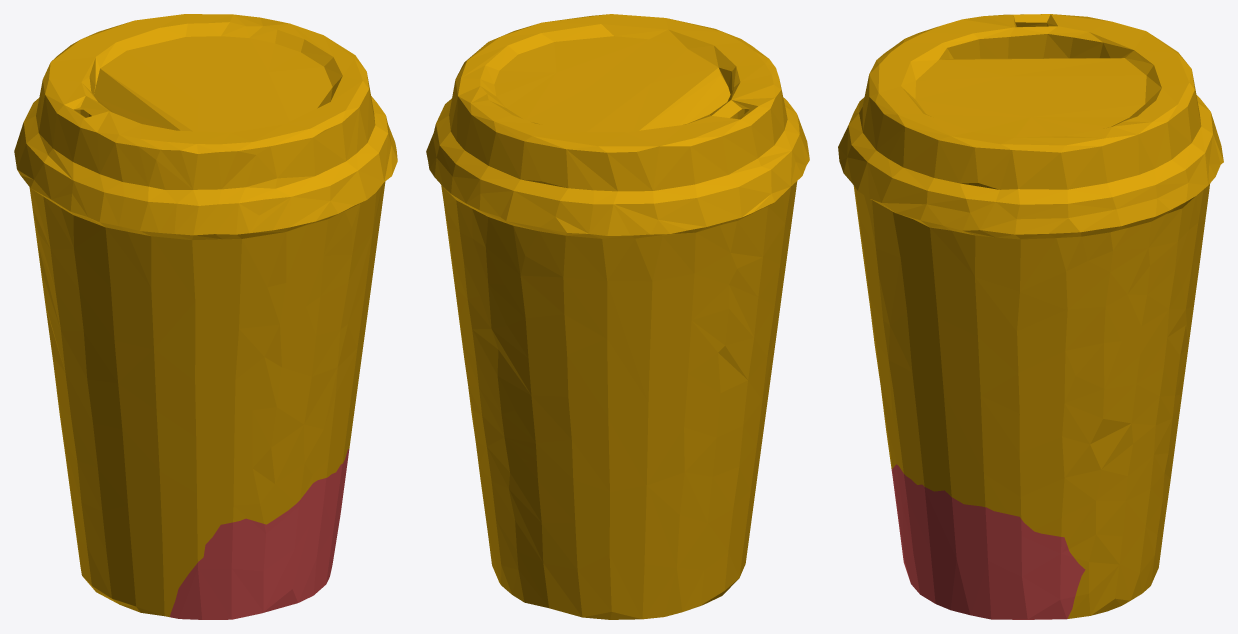
File: fractured_60_2pcs.glb
3 renders of one model, left to right at view 1: azimuth 30°, elevation 25°; view 2: azimuth 150°, elevation 25°; view 3: azimuth 270°, elevation 25°, orthographic.
Parts seen in each view (by area): view 1: piece_0.obj, piece_1.obj; view 2: piece_0.obj; view 3: piece_0.obj, piece_1.obj.
Part boxes in pixels (<box>): piece_0.obj: <box>14,14,397,616</box>; piece_1.obj: <box>170,449,349,619</box>; piece_0.obj: <box>426,14,809,619</box>; piece_0.obj: <box>838,14,1223,618</box>; piece_1.obj: <box>891,464,1085,619</box>.
Bounding box in the file's own units: 0.7103 × 1 × 0.7115.
